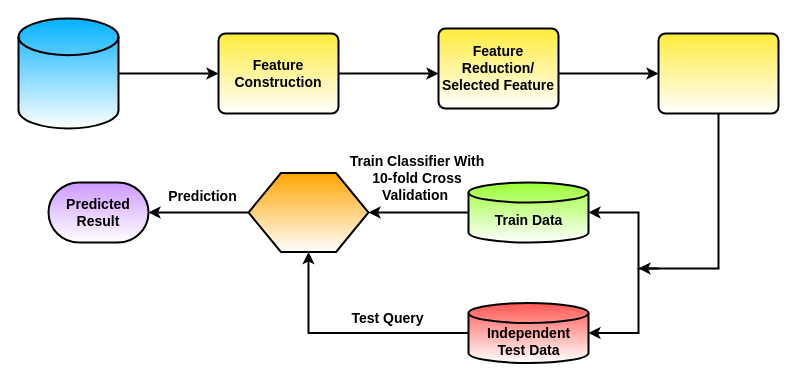
Some shapes in this 796 by 381 pixel diagram are drawn without their labels. The centre of each missing label's shape, as x and y in pixels:
Dataset: point 68,73
Dataset Preprocessing: point 718,73
Trained Classifier: point 308,212
